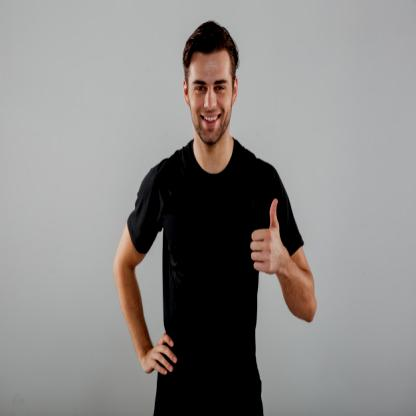Thumbs up: (250, 196, 286, 278)
